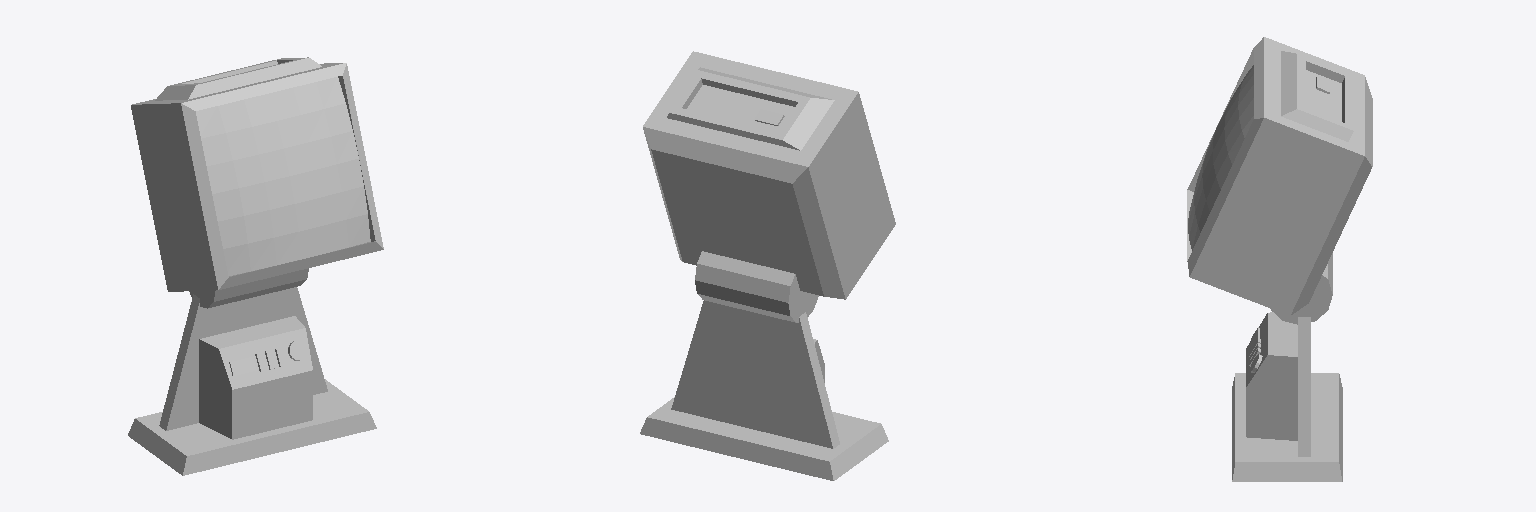
File: BioMonitor_Blue.obj
3 views of the same model, side by side, from view 1: azimuth 30°, elevation 25°; view 2: azimuth 150°, elevation 25°; view 3: azimuth 270°, elevation 25° (orthographic).
Parts seen in each view (by area): view 1: BioMonitor_Blue; view 2: BioMonitor_Blue; view 3: BioMonitor_Blue.
Part boxes in pixels (x1,y1,x2,y2): BioMonitor_Blue: (128,57,383,475); BioMonitor_Blue: (640,51,895,480); BioMonitor_Blue: (1187,37,1372,481).
Bounding box in the file's own units: 1.01 × 1.78 × 0.8325.